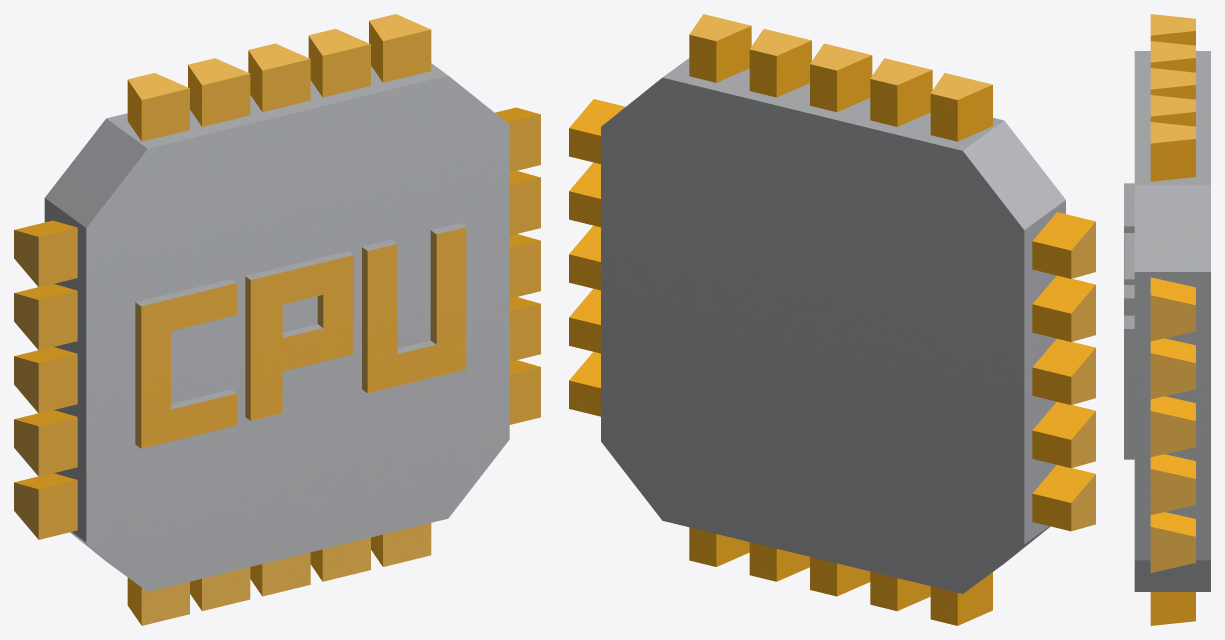
Rendered from SM_CPU.fbx.
3 renders of one model, left to right at view 1: azimuth 30°, elevation 25°; view 2: azimuth 150°, elevation 25°; view 3: azimuth 270°, elevation 25°, orthographic. The views are drawn at different scales.
Parts seen in each view (by area): view 1: MSH_CPU; view 2: MSH_CPU; view 3: MSH_CPU.
Boxes of the visible parts, <box> form: MSH_CPU: <box>14,14,540,625</box>; MSH_CPU: <box>569,14,1095,625</box>; MSH_CPU: <box>1124,14,1210,625</box>.
Bounding box in the file's own units: 34.92 × 34.94 × 5.7.
1 material, 1 textured.
